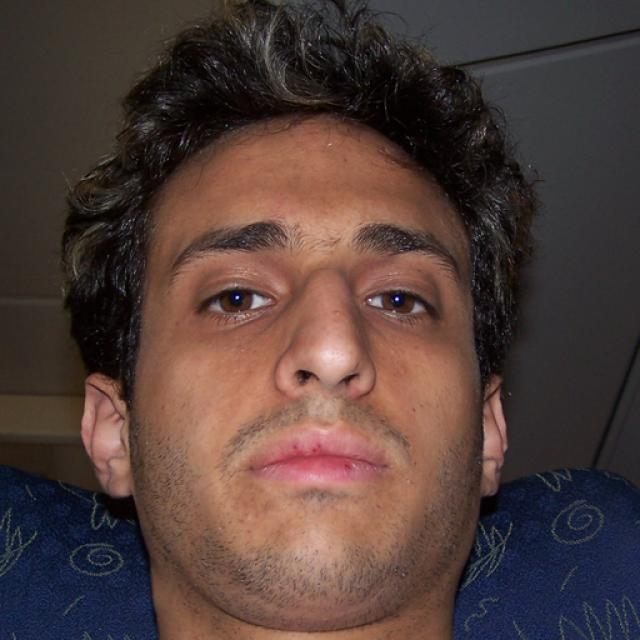Acne: (327, 308, 348, 324)
